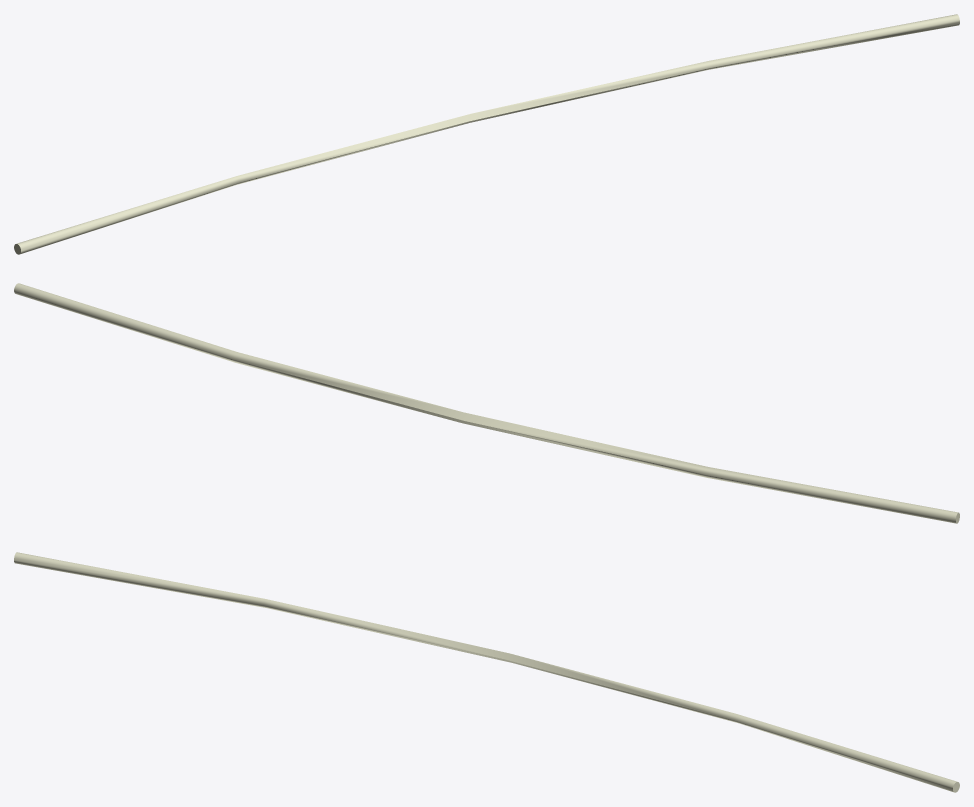
The model's file is original-65.obj.
3 views of the same model, one above another, from view 1: azimuth 30°, elevation 25°; view 2: azimuth 150°, elevation 25°; view 3: azimuth 330°, elevation 25° (orthographic).
Parts seen in each view (by area): view 1: mesh65/mesh65-geometry#mesh65-geometry; view 2: mesh65/mesh65-geometry#mesh65-geometry; view 3: mesh65/mesh65-geometry#mesh65-geometry.
Part boxes in pixels (<box>): mesh65/mesh65-geometry#mesh65-geometry: <box>14,14,959,254</box>; mesh65/mesh65-geometry#mesh65-geometry: <box>14,283,959,523</box>; mesh65/mesh65-geometry#mesh65-geometry: <box>14,552,959,792</box>.
Size of the model in its own units: 0.6503 by 0.00682 by 0.0318.
